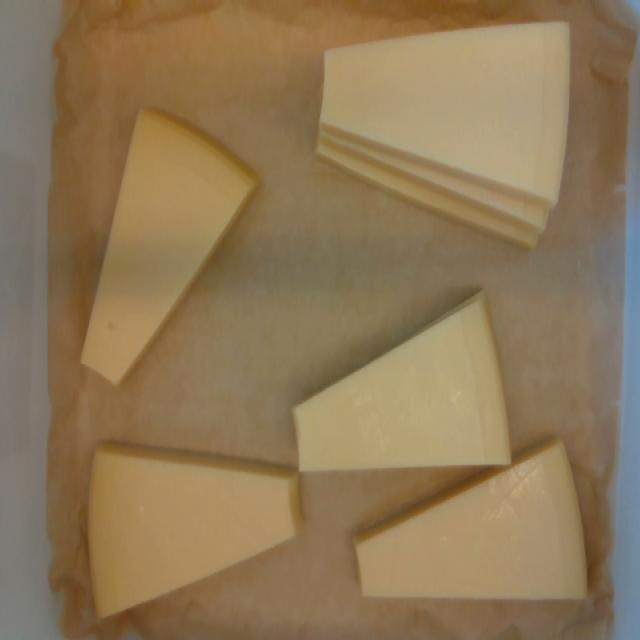cheese: (318, 25, 568, 244), (82, 112, 257, 383), (295, 293, 510, 472), (357, 444, 585, 597), (90, 451, 295, 616)
